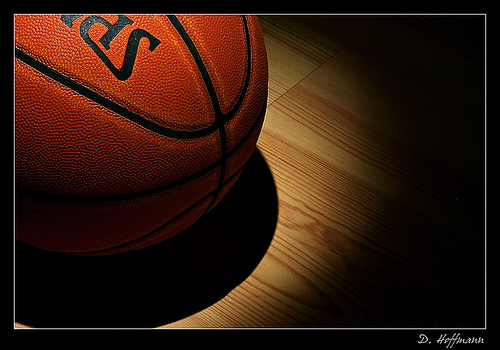basketball: (16, 15, 265, 254)
